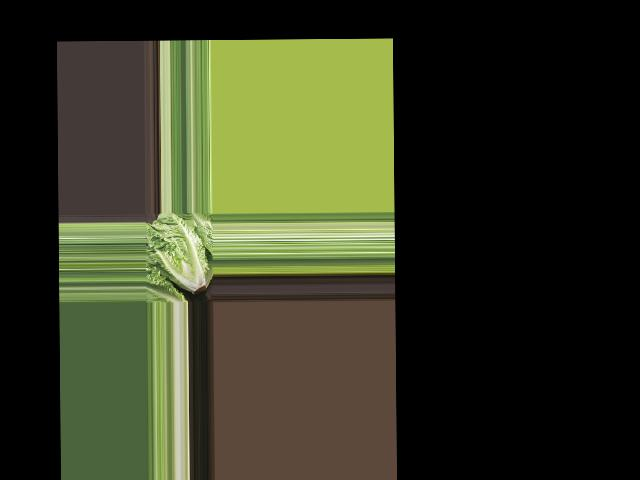lettuce: (150, 213, 214, 298)
